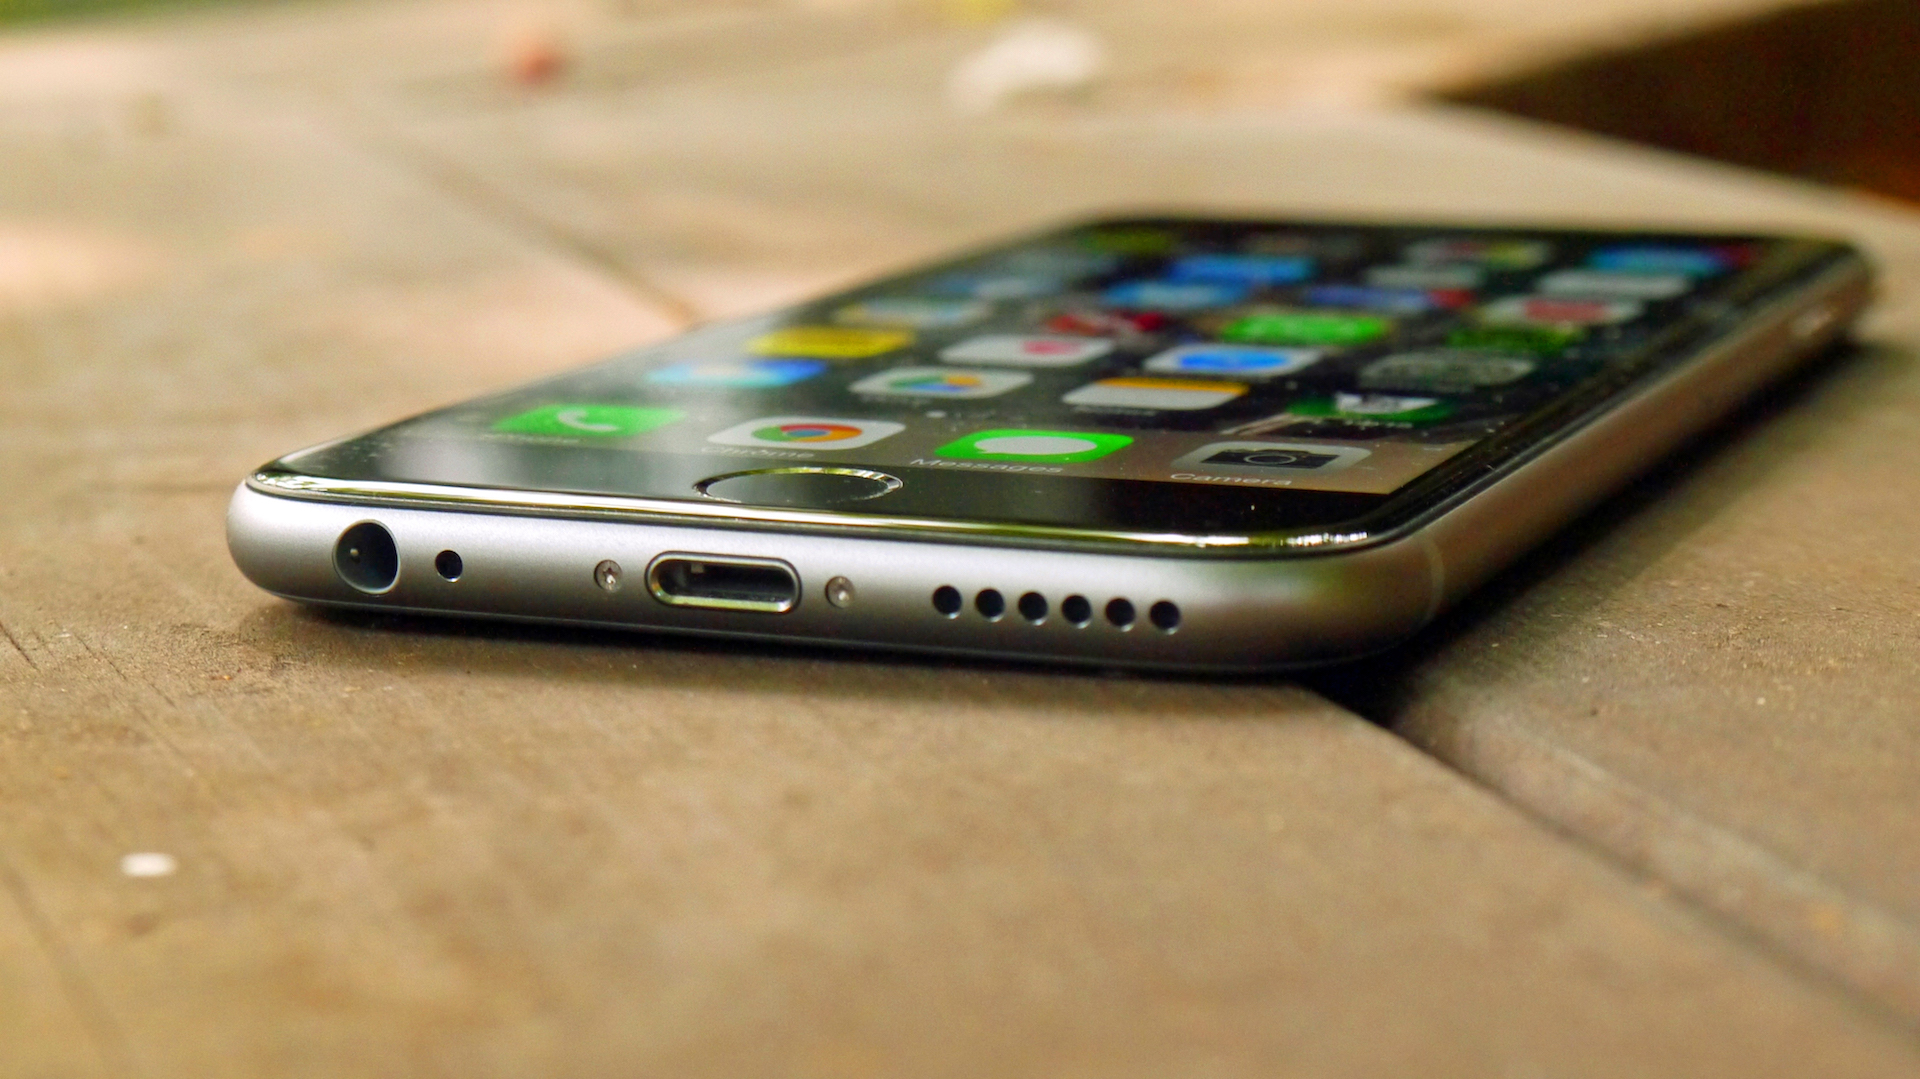smartphone: (222, 208, 1879, 689)
